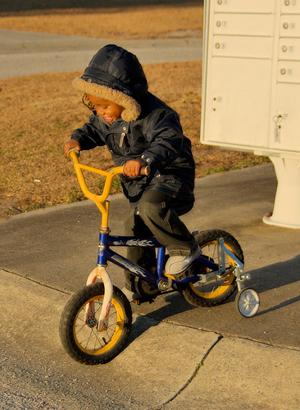person: (65, 45, 195, 304)
